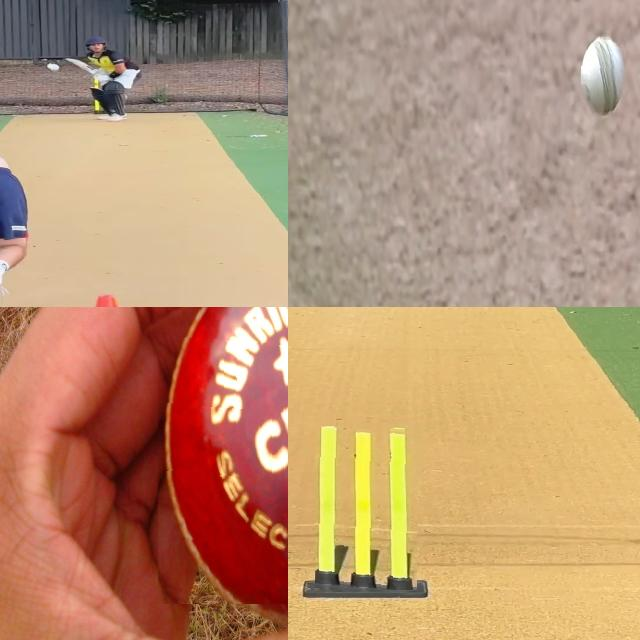Cricket ball: (158, 307, 288, 604), (581, 32, 626, 116), (44, 60, 62, 73)
Stumps: (315, 422, 419, 590)
